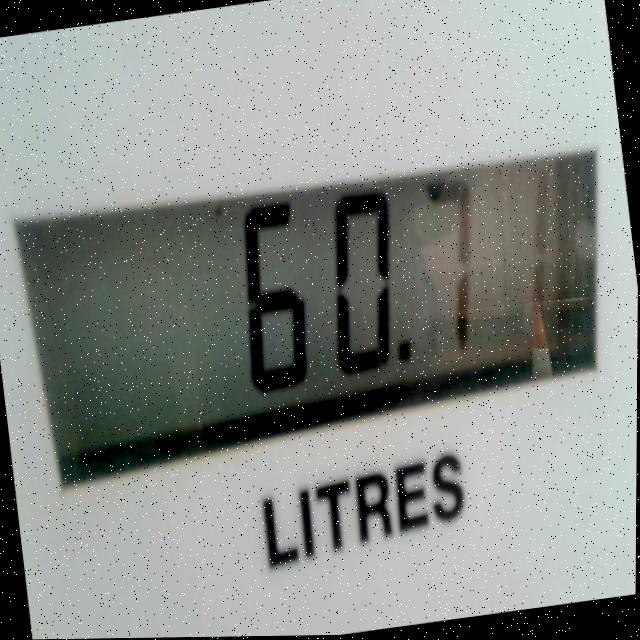.: (380, 322, 419, 383)
0: (312, 174, 428, 403)
6: (207, 188, 335, 411)
7: (403, 157, 505, 385)
